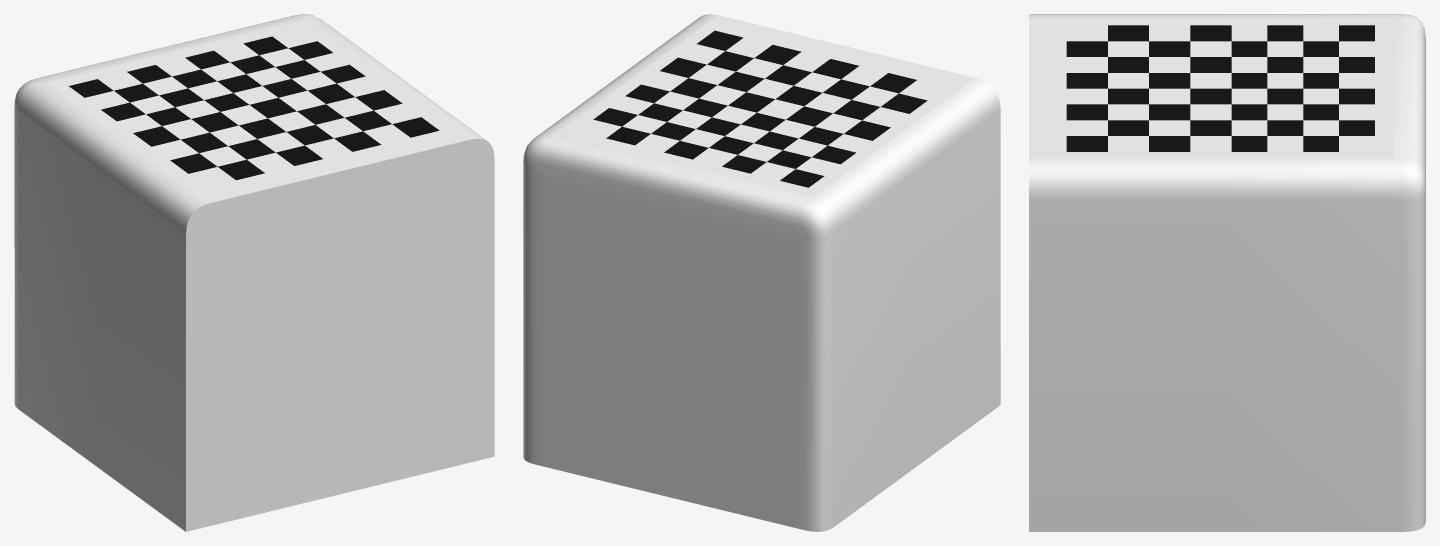
The model's file is Finish.FBX.
3 views of the same model, side by side, from view 1: azimuth 30°, elevation 25°; view 2: azimuth 150°, elevation 25°; view 3: azimuth 270°, elevation 25° (orthographic). The views are drawn at different scales.
Parts seen in each view (by area): view 1: Finish; view 2: Finish; view 3: Finish.
Boxes of the visible parts, x1,y1,x2,y2 form: Finish: (14,14,494,531); Finish: (523,14,1000,531); Finish: (1029,14,1425,531).
Bounding box in the file's own units: 500 × 500 × 500.
2 materials, 2 textured.
